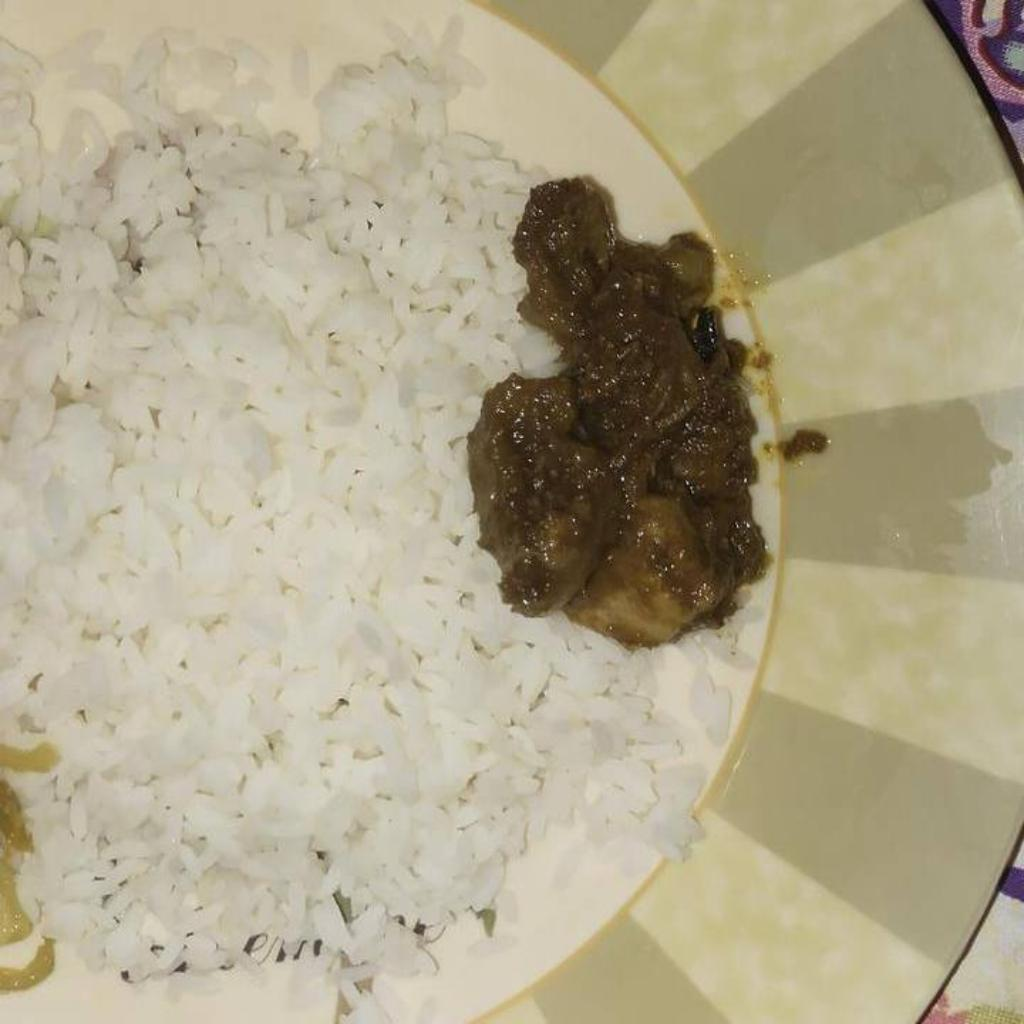achar: (475, 175, 768, 637)
rice: (0, 14, 757, 1023)
